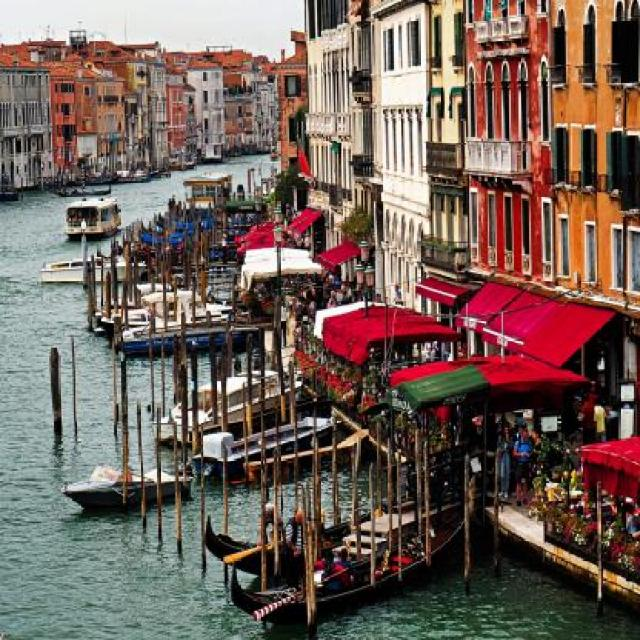ship: (228, 509, 472, 625), (203, 460, 446, 574), (150, 368, 299, 444), (193, 416, 341, 478), (115, 290, 240, 355), (121, 292, 237, 352), (60, 464, 194, 508), (38, 252, 147, 283), (64, 195, 121, 240), (45, 182, 112, 198), (104, 166, 150, 182), (155, 158, 196, 170), (85, 172, 118, 182)
